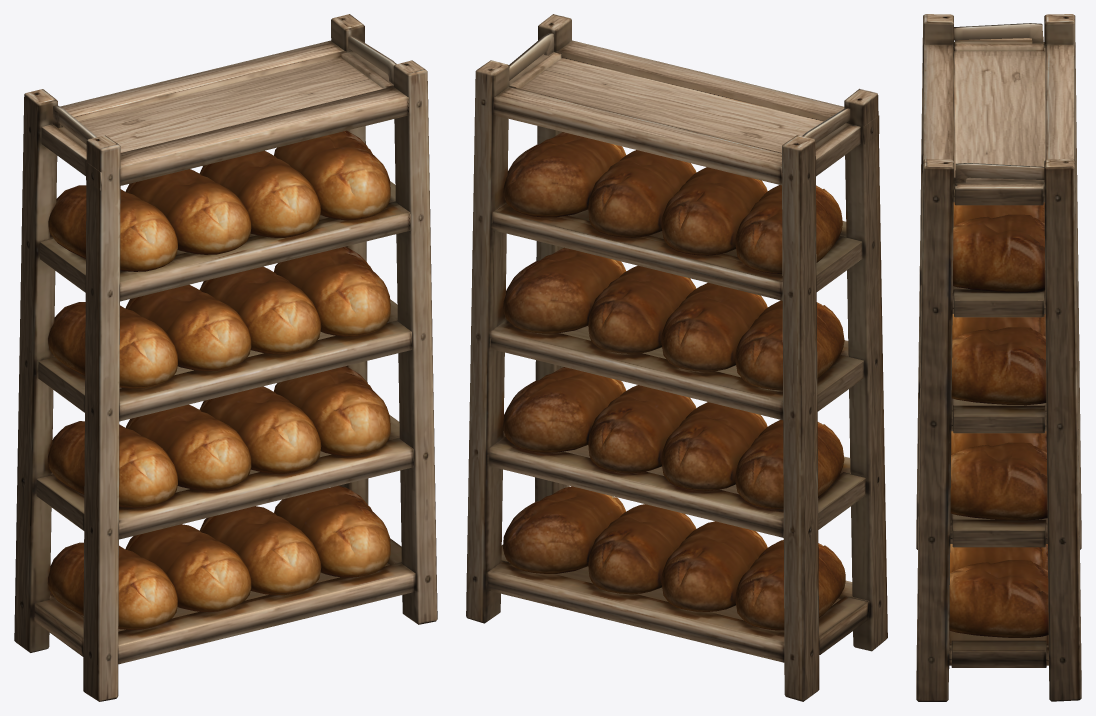
File: act1_kit_v1_R31r_bread_rack.glb
The picture shows the model from 3 angles, left to right: view 1: azimuth 30°, elevation 25°; view 2: azimuth 150°, elevation 25°; view 3: azimuth 270°, elevation 25°; orthographic projection. The views are drawn at different scales.
Parts seen in each view (by area): view 1: fff2102f_045d_4e19_883b_96388773f1a6; view 2: fff2102f_045d_4e19_883b_96388773f1a6; view 3: fff2102f_045d_4e19_883b_96388773f1a6.
Boxes of the visible parts, <box> form: fff2102f_045d_4e19_883b_96388773f1a6: <box>14,14,437,701</box>; fff2102f_045d_4e19_883b_96388773f1a6: <box>466,14,887,701</box>; fff2102f_045d_4e19_883b_96388773f1a6: <box>916,14,1081,701</box>.
Size of the model in its own units: 0.646 by 0.9995 by 0.2817.
1 material, 1 textured.
